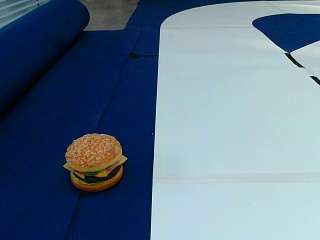burger: (63, 131, 127, 190)
